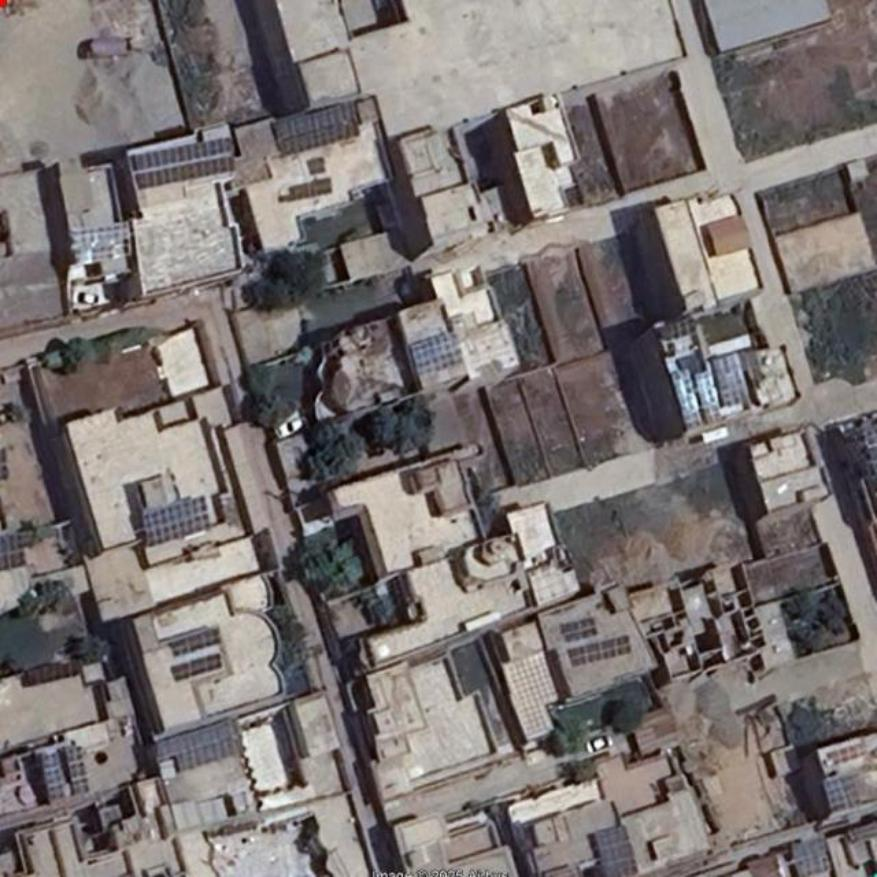Solarpanel: (131, 140, 235, 187), (152, 722, 235, 779), (275, 104, 346, 154), (142, 496, 211, 545), (410, 329, 464, 375), (713, 351, 751, 410), (595, 823, 637, 876), (668, 367, 704, 428), (570, 635, 630, 664), (172, 651, 222, 680), (693, 371, 721, 420), (794, 837, 829, 876), (169, 628, 220, 654), (823, 777, 857, 809), (562, 615, 597, 639), (0, 535, 23, 570)
